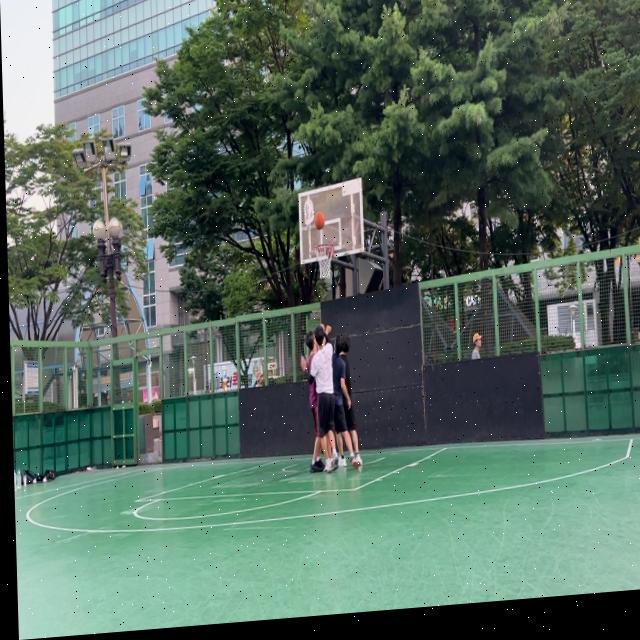basketball: (315, 211, 325, 230)
hoop: (314, 243, 335, 280)
